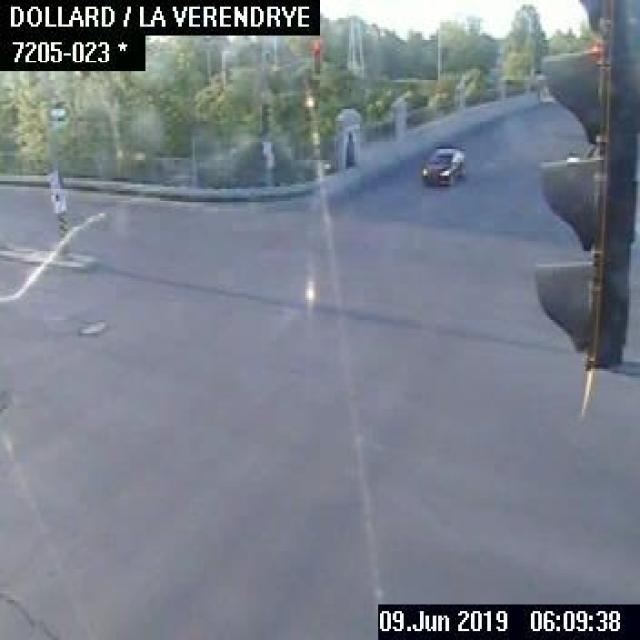vehicle: (420, 140, 465, 184)
